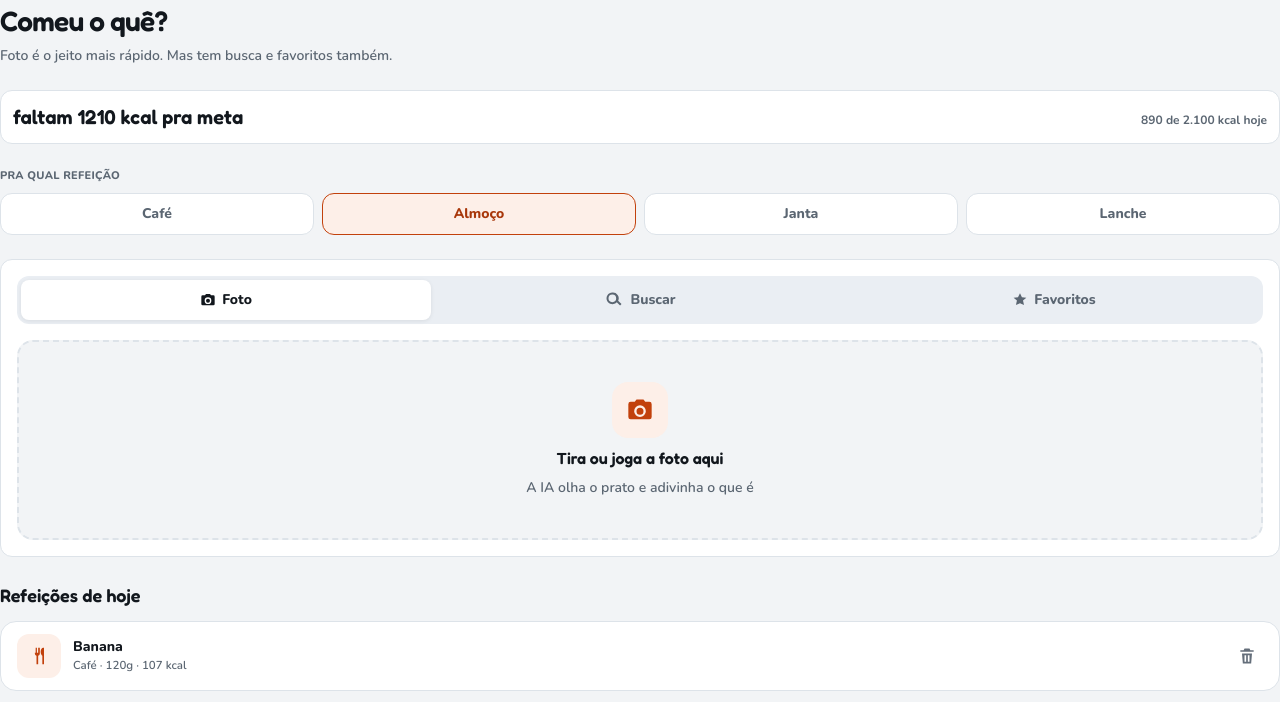
Test case: NutritionPage › shows the failure when removing a meal does not work
This screenshot has width=1280, height=702.
Click the button named "Remover Banana".
click(1247, 656)  # box [1231,640,1263,672]
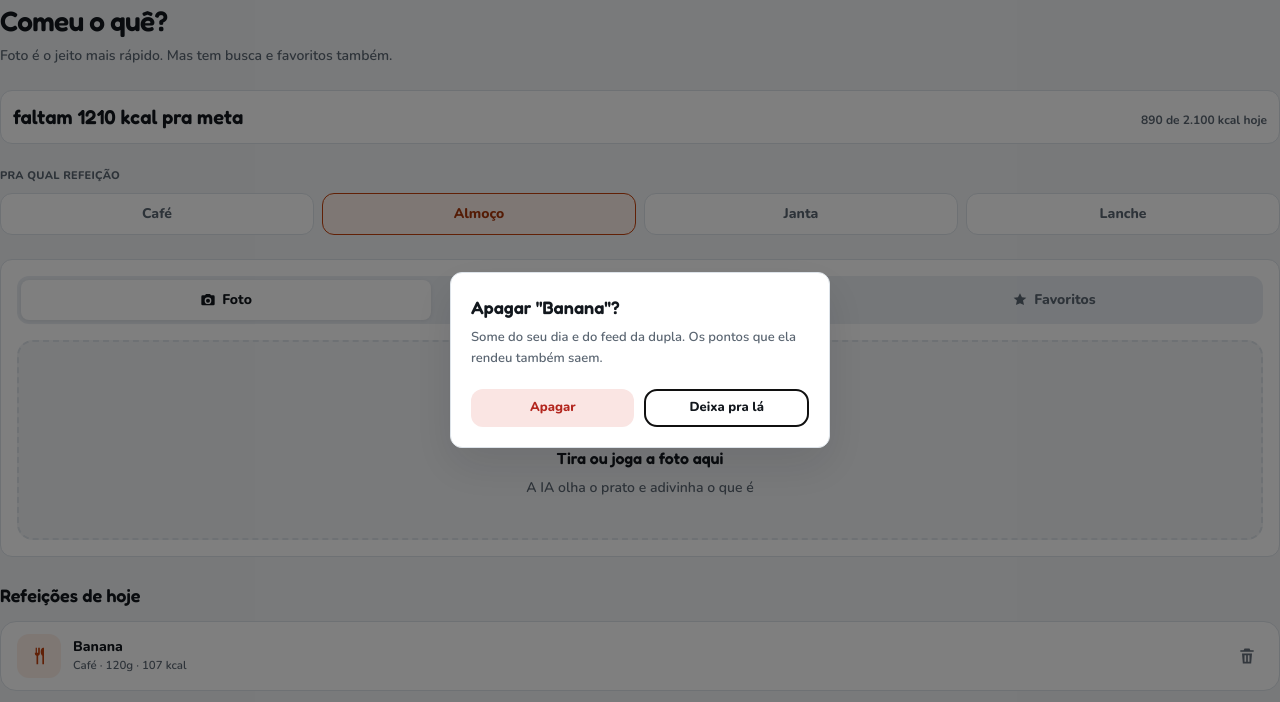
// Remover pergunta antes: a ação leva junto a linha do feed e os pontos.
Click the button "Apagar".
click(553, 408)  # box [471,389,634,427]
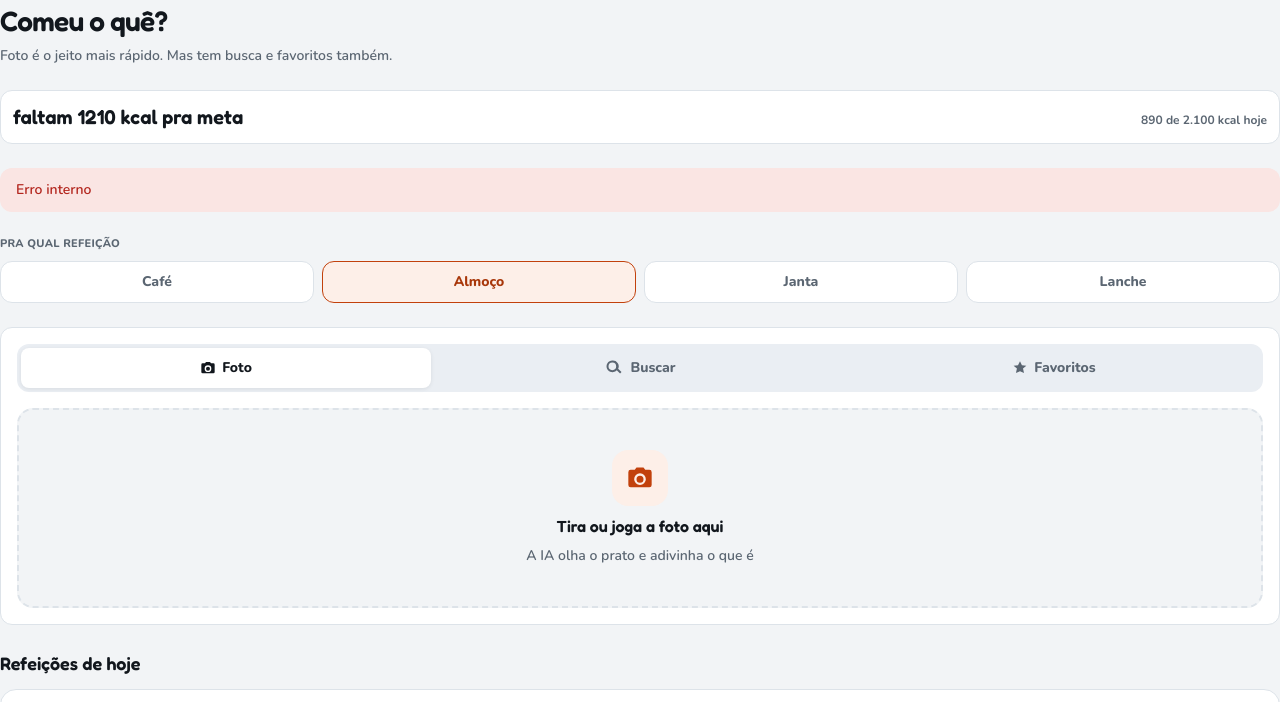
Expected: the message reads "Erro interno", [16,180,91,199]
